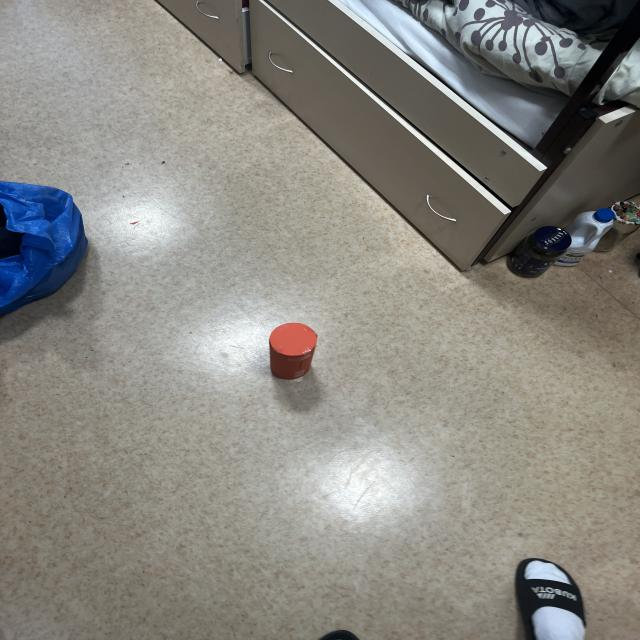przeszkoda: (269, 323, 317, 379)
